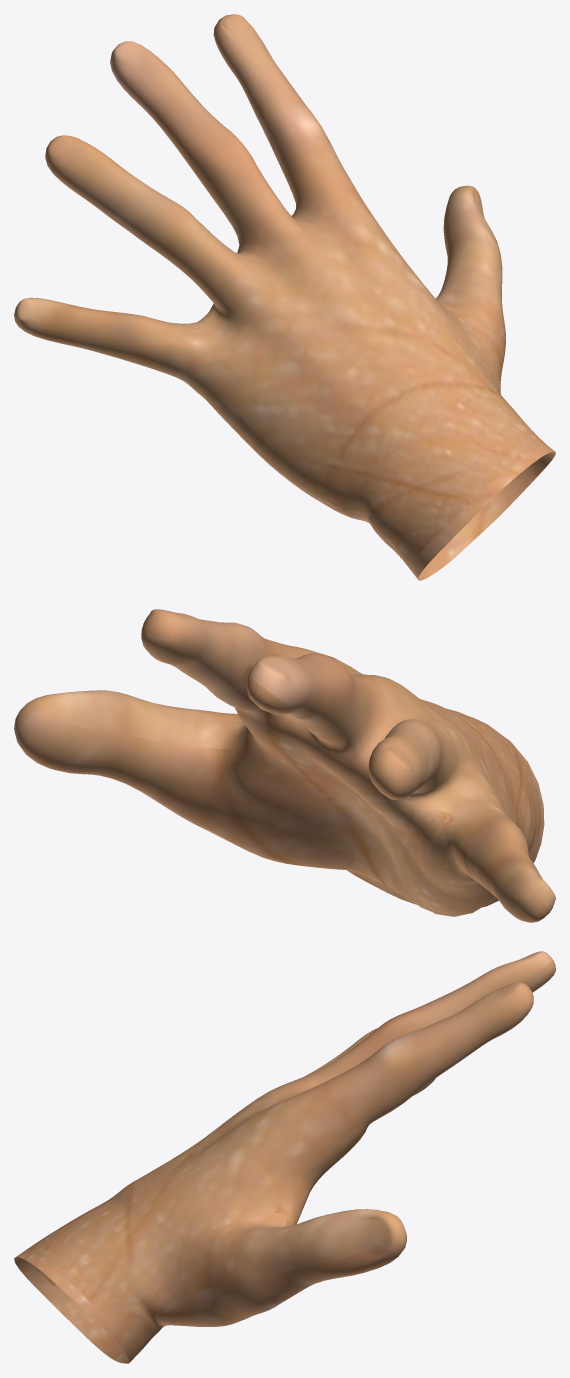
File: LeftHand.obj
The picture shows the model from 3 angles, top to bottom: view 1: azimuth 30°, elevation 25°; view 2: azimuth 150°, elevation 25°; view 3: azimuth 270°, elevation 25°; orthographic projection. The views are drawn at different scales.
Parts seen in each view (by area): view 1: Hand1:Hand_Geo Hand1:Hand_polySurface1 Hand1:Hand_polySurface2 H; view 2: Hand1:Hand_Geo Hand1:Hand_polySurface1 Hand1:Hand_polySurface2 H; view 3: Hand1:Hand_Geo Hand1:Hand_polySurface1 Hand1:Hand_polySurface2 H.
Boxes of the visible parts, x1,y1,x2,y2 form: Hand1:Hand_Geo Hand1:Hand_polySurface1 Hand1:Hand_polySurface2 H: (14, 14, 555, 580); Hand1:Hand_Geo Hand1:Hand_polySurface1 Hand1:Hand_polySurface2 H: (14, 609, 555, 922); Hand1:Hand_Geo Hand1:Hand_polySurface1 Hand1:Hand_polySurface2 H: (14, 951, 555, 1363).
Size of the model in its own units: 0.6285 by 0.5301 by 0.6932.
Materials: 1 (1 with a texture image).
